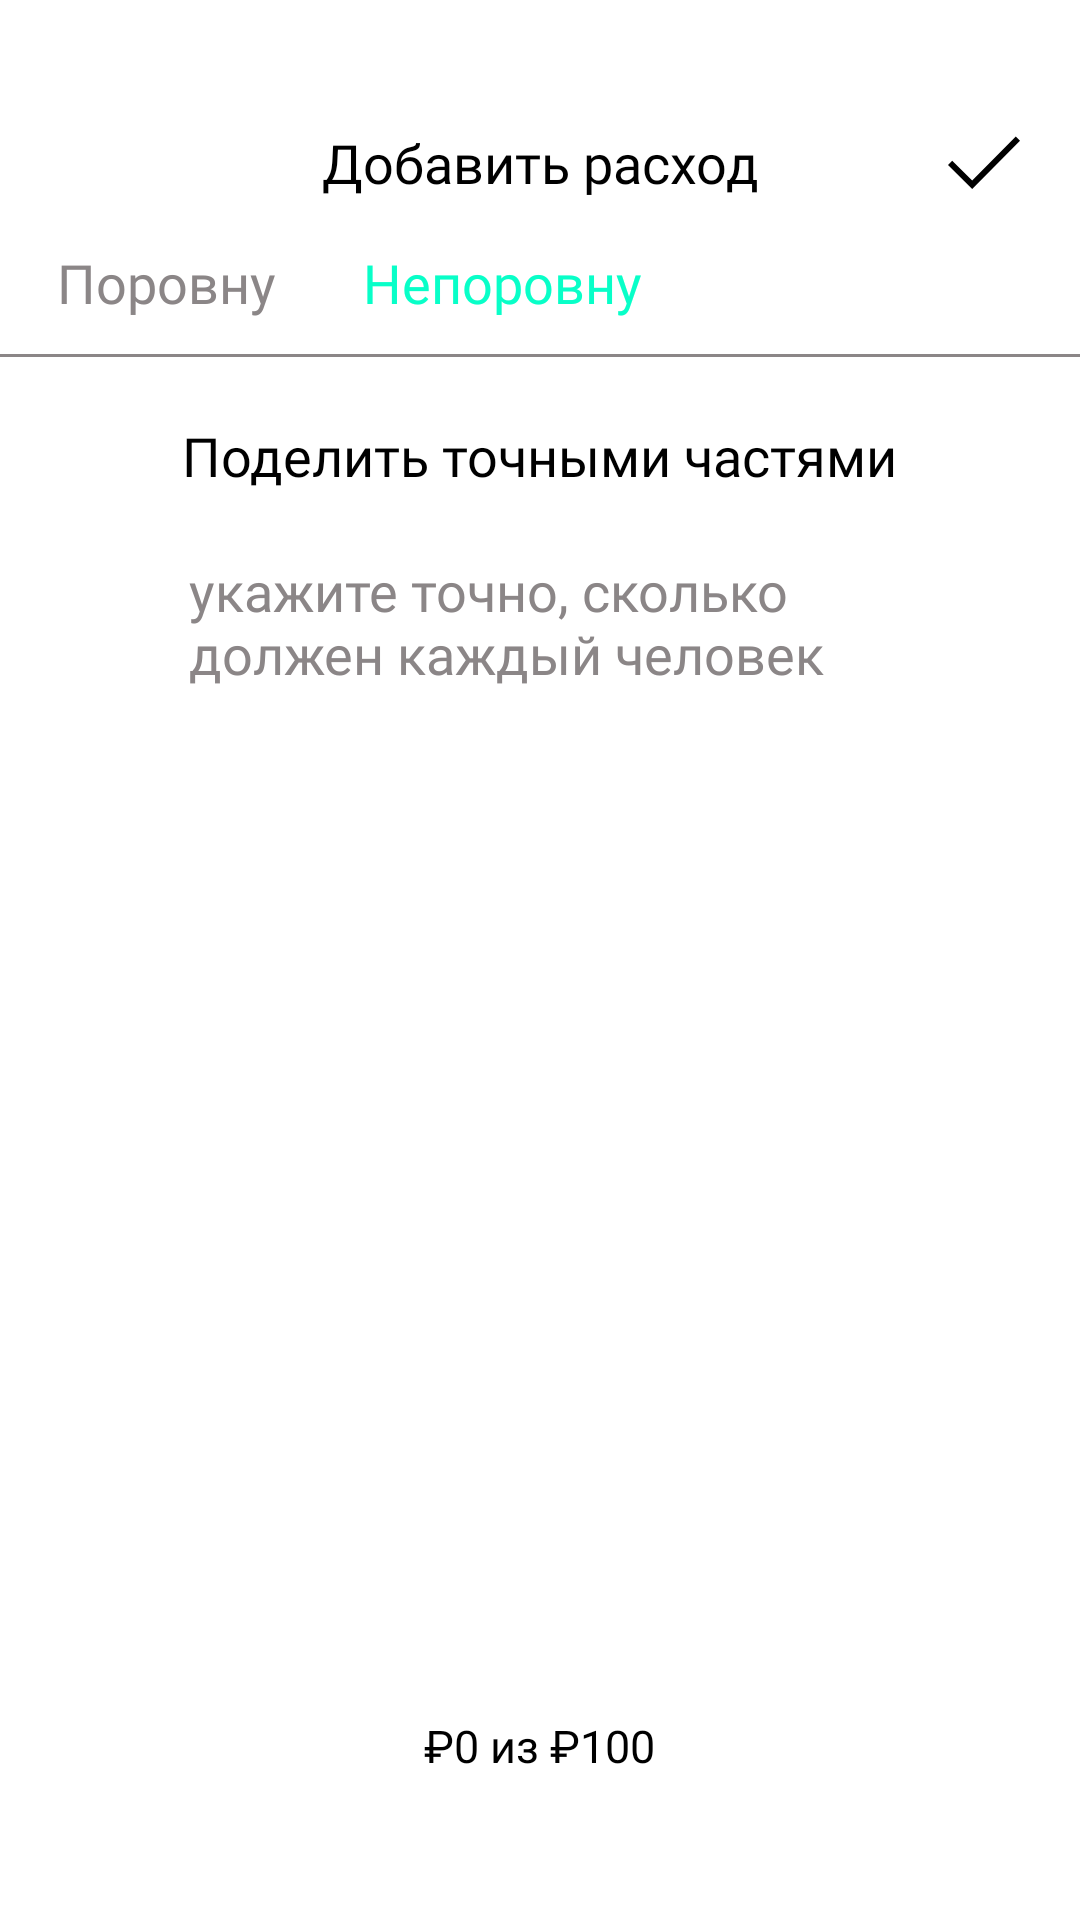

Screen size 1080×1920. Icon name, then its center in pixels as [x,y]:
done: [984,162]
